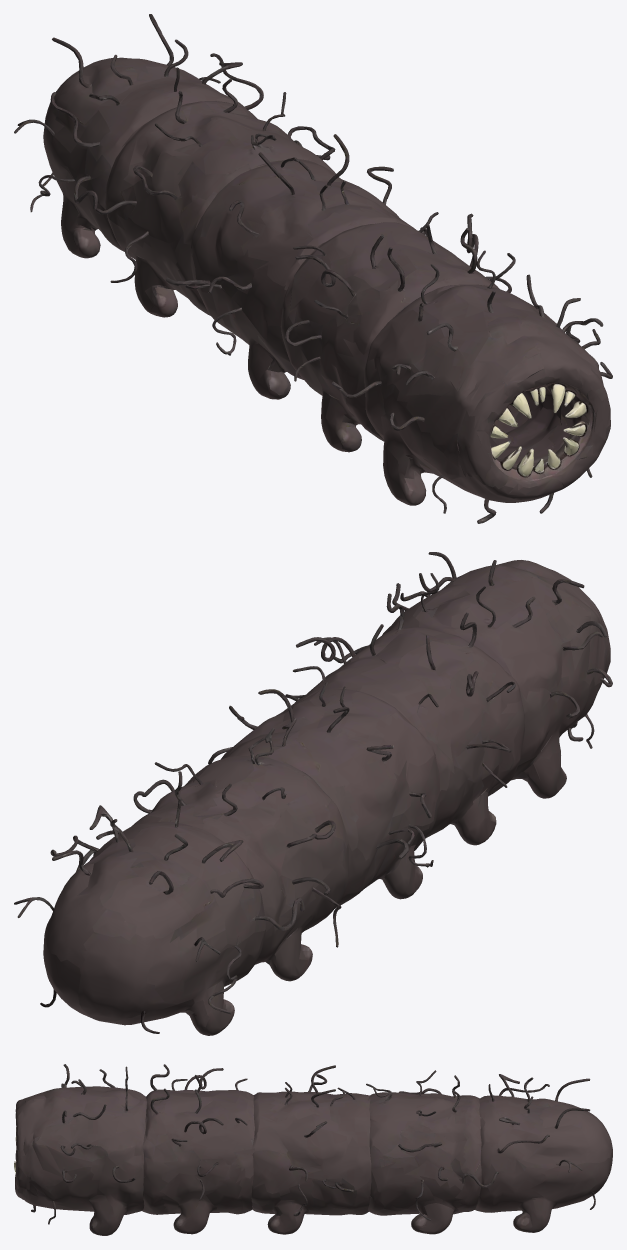
Rendered from ecoli.glb.
3 renders of one model, top to bottom at view 1: azimuth 30°, elevation 25°; view 2: azimuth 150°, elevation 25°; view 3: azimuth 270°, elevation 25°, orthographic. The views are drawn at different scales.
Size of the model in its own units: 0.5705 by 0.4829 by 1.9.
Materials: 1 (1 with a texture image).
